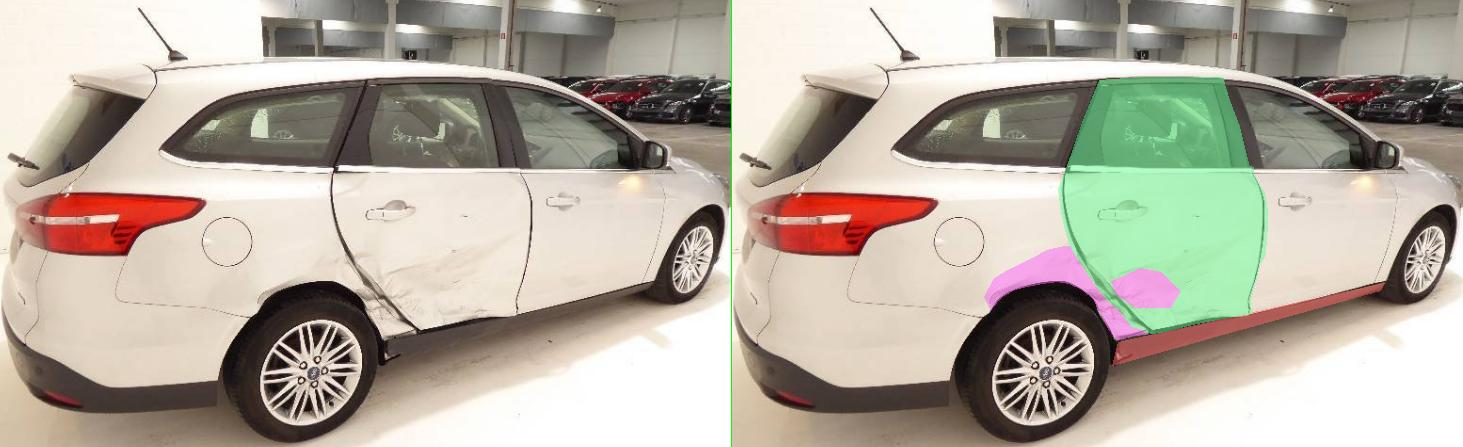Broken part: (652, 77, 1071, 333)
Dent: (696, 223, 983, 330), (504, 246, 827, 339), (759, 268, 897, 307), (951, 228, 1055, 261), (668, 176, 763, 206), (915, 209, 953, 224)
Missing part: (761, 283, 1305, 365)
Scratch: (765, 258, 877, 275), (893, 274, 935, 287), (887, 246, 935, 257), (869, 307, 895, 324), (943, 307, 979, 314), (919, 302, 933, 317), (925, 215, 943, 219)
